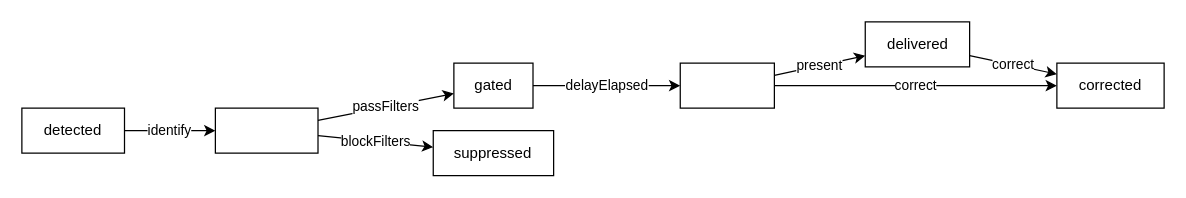
Some shapes in this 1186 by 198 pixel diagram are drawn without their labels. The shapes that lost their labels are listed below. From the top down, each one's box as (x1, y1, x2, y2) in pixels, then its label:
(679, 62, 774, 108): emitted
(214, 107, 318, 153): matched
